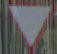Give way: (8, 3, 49, 53)
